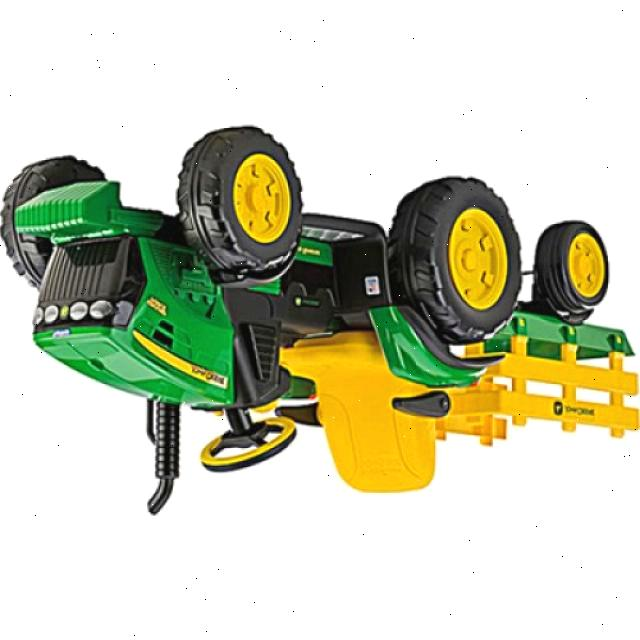Tratores - v5 YOLO V8L 2024-11-13: (0, 127, 517, 519)
